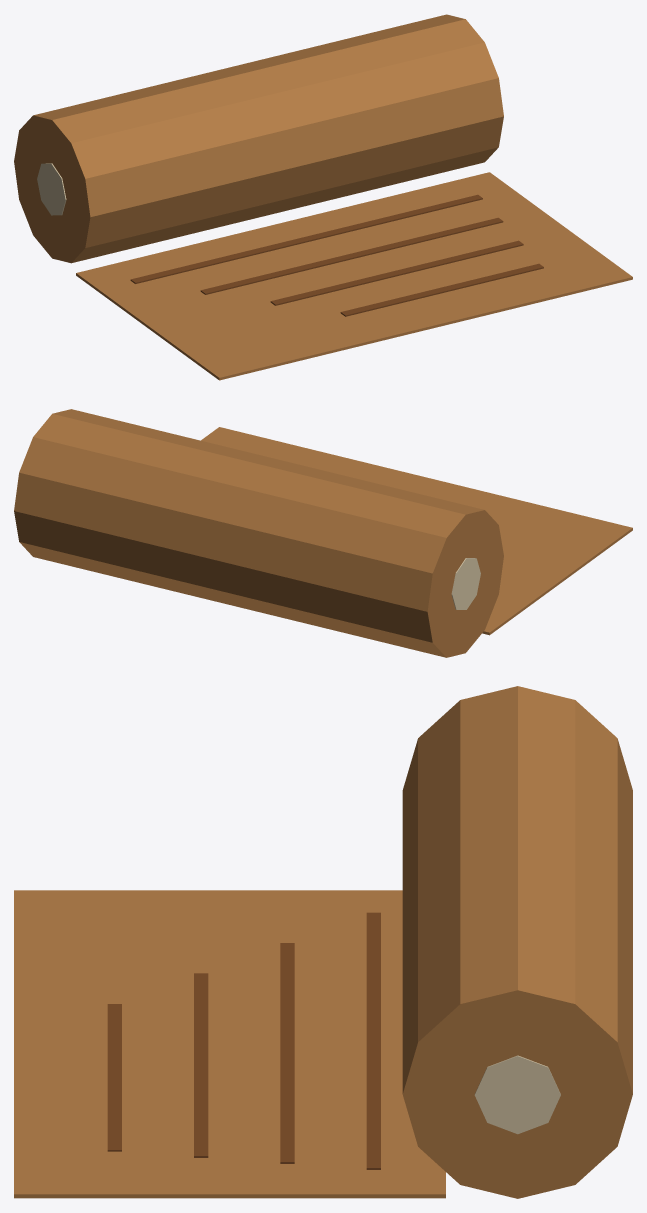
The model's file is wood_decal_roll.glb.
3 views of the same model, one above another, from view 1: azimuth 30°, elevation 25°; view 2: azimuth 150°, elevation 25°; view 3: azimuth 270°, elevation 25° (orthographic). The views are drawn at different scales.
Parts seen in each view (by area): view 1: roll_decal_oak, loose_end_decal_oak, grain_decal_grain, core_decal_core; view 2: roll_decal_oak, loose_end_decal_oak, core_decal_core; view 3: loose_end_decal_oak, roll_decal_oak, grain_decal_grain, core_decal_core.
Part boxes in pixels (x1=…): roll_decal_oak: x1=14, y1=14, x2=503, y2=263; loose_end_decal_oak: x1=76, y1=172, x2=632, y2=380; grain_decal_grain: x1=130, y1=194, x2=543, y2=316; core_decal_core: x1=37, y1=163, x2=66, y2=215; roll_decal_oak: x1=14, y1=409, x2=503, y2=657; loose_end_decal_oak: x1=201, y1=427, x2=632, y2=635; core_decal_core: x1=451, y1=558, x2=480, y2=609; loose_end_decal_oak: x1=14, y1=890, x2=445, y2=1198; roll_decal_oak: x1=402, y1=686, x2=632, y2=1198; grain_decal_grain: x1=107, y1=912, x2=380, y2=1169; core_decal_core: x1=474, y1=1055, x2=560, y2=1134.
Bounding box in the file's own units: 0.502 × 0.16 × 0.43.
